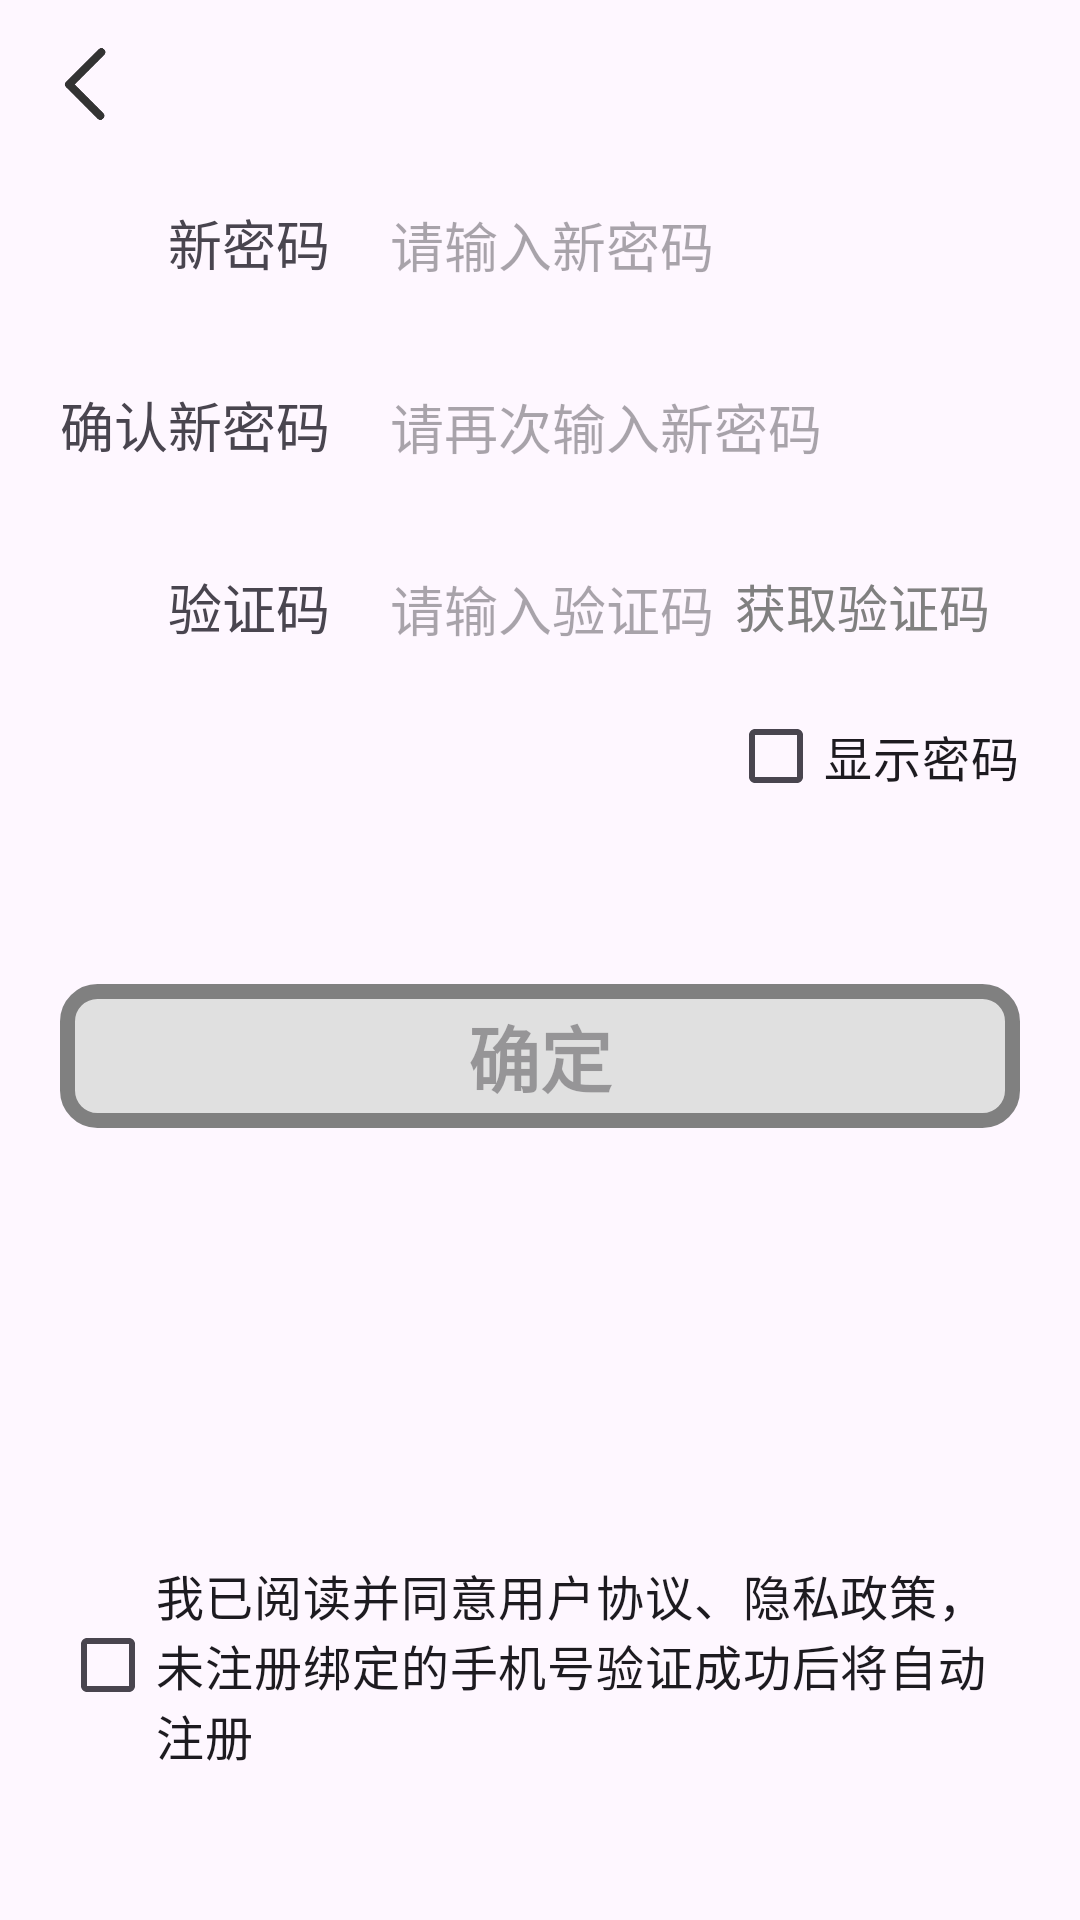

Named icons in this screenshot (1080 × 1920) and their bounding boxes, box=[x1, y1, x2, y2]:
back: box=[65, 48, 106, 120]
